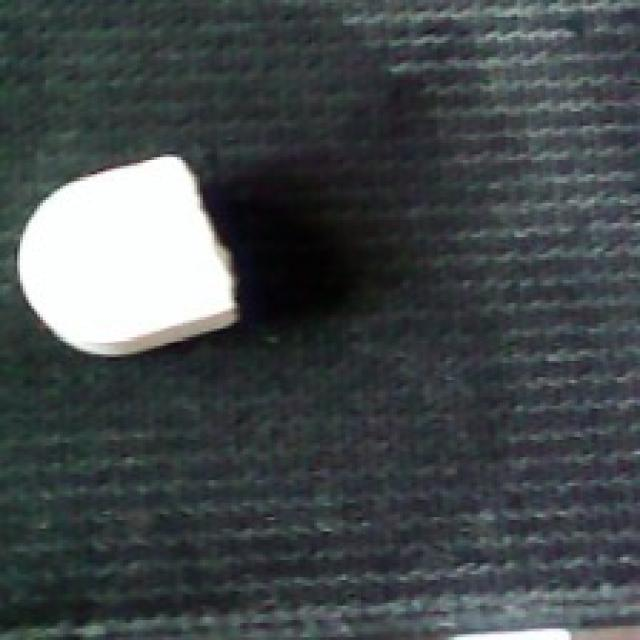defected: (8, 148, 243, 366)
